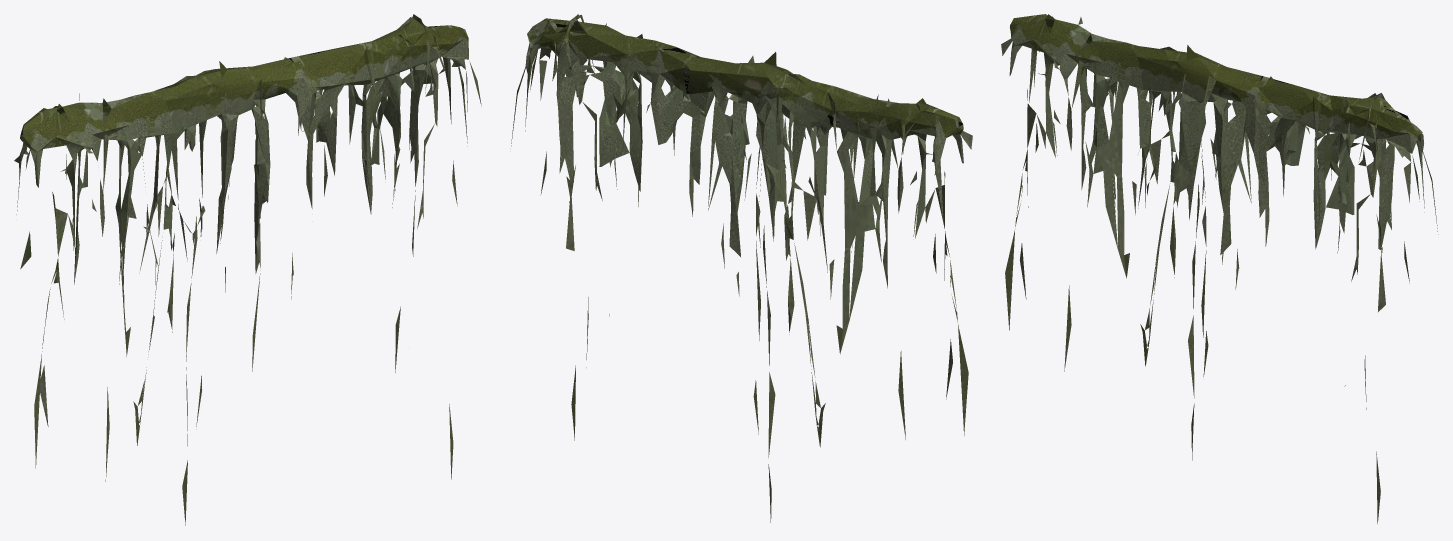
Rendered from sp_m_vines.glb.
3 views of the same model, side by side, from view 1: azimuth 30°, elevation 25°; view 2: azimuth 150°, elevation 25°; view 3: azimuth 330°, elevation 25° (orthographic). The views are drawn at different scales.
Visible parts, largest first — view 1: output_unwrapped; view 2: output_unwrapped; view 3: output_unwrapped.
Boxes of the visible parts, left/top/right/bottom form: output_unwrapped: left=14, top=14, right=481, bottom=525; output_unwrapped: left=511, top=14, right=972, bottom=522; output_unwrapped: left=1001, top=14, right=1438, bottom=523.
Size of the model in its own units: 1.63 by 1.61 by 0.2147.
Materials: 1 (1 with a texture image).
